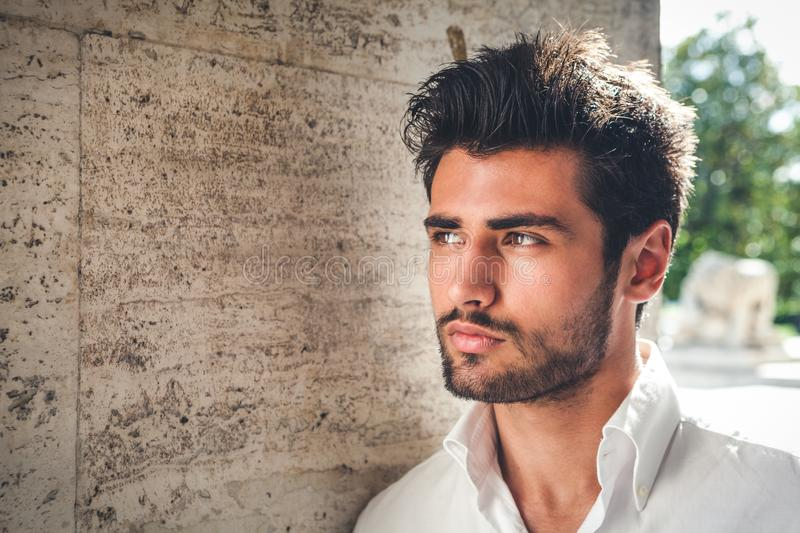bare: (419, 251, 604, 401)
